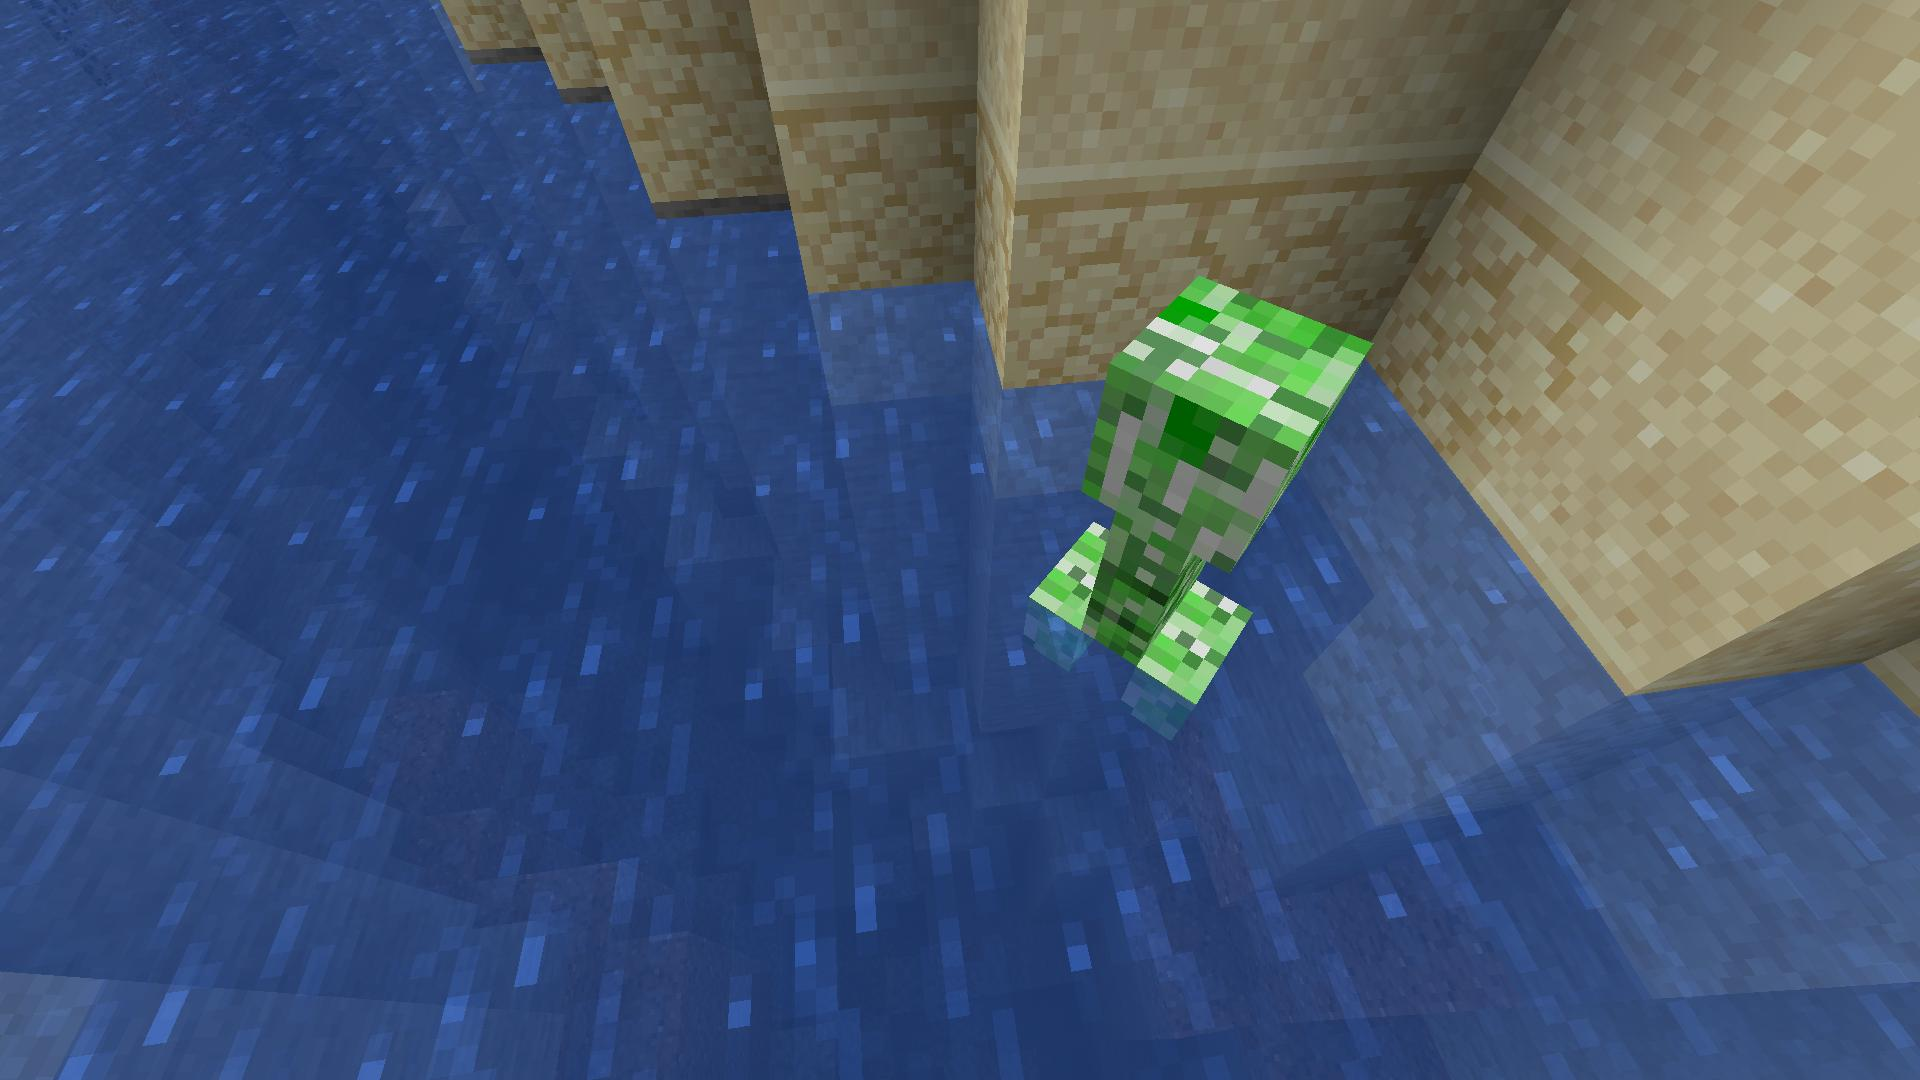creeper: (1022, 266, 1385, 750)
